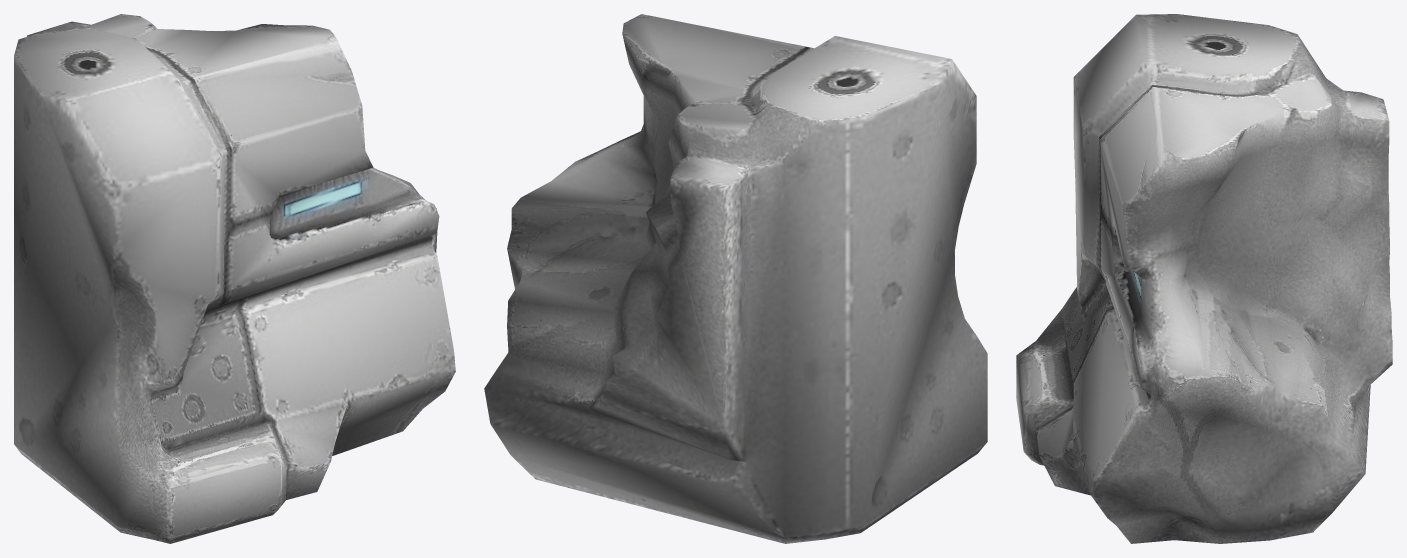
File: crate_white_debris.glb
3 views of the same model, side by side, from view 1: azimuth 30°, elevation 25°; view 2: azimuth 150°, elevation 25°; view 3: azimuth 270°, elevation 25° (orthographic). The views are drawn at different scales.
Parts seen in each view (by area): view 1: tripo_node_34b6d17e-c622-4146-b552-c4b3c6ea3eae; view 2: tripo_node_34b6d17e-c622-4146-b552-c4b3c6ea3eae; view 3: tripo_node_34b6d17e-c622-4146-b552-c4b3c6ea3eae.
Part boxes in pixels (x1=…): tripo_node_34b6d17e-c622-4146-b552-c4b3c6ea3eae: x1=14, y1=14, x2=455, y2=543; tripo_node_34b6d17e-c622-4146-b552-c4b3c6ea3eae: x1=484, y1=14, x2=987, y2=543; tripo_node_34b6d17e-c622-4146-b552-c4b3c6ea3eae: x1=1016, y1=14, x2=1392, y2=543.
Bounding box in the file's own units: 0.998 × 0.998 × 0.8965.
Materials: 1 (1 with a texture image).
